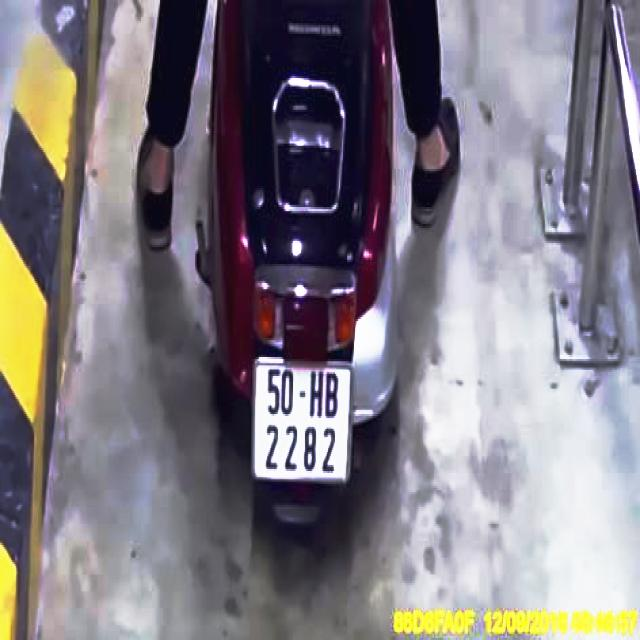license_plate: (254, 362, 353, 481)
